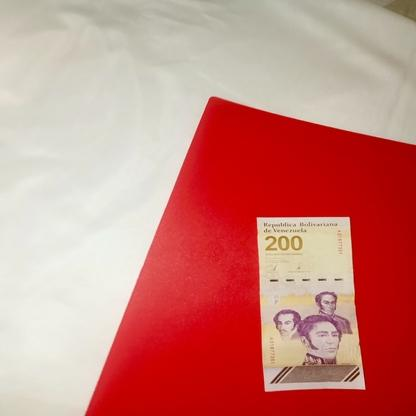vef_front: (256, 216, 366, 392)
